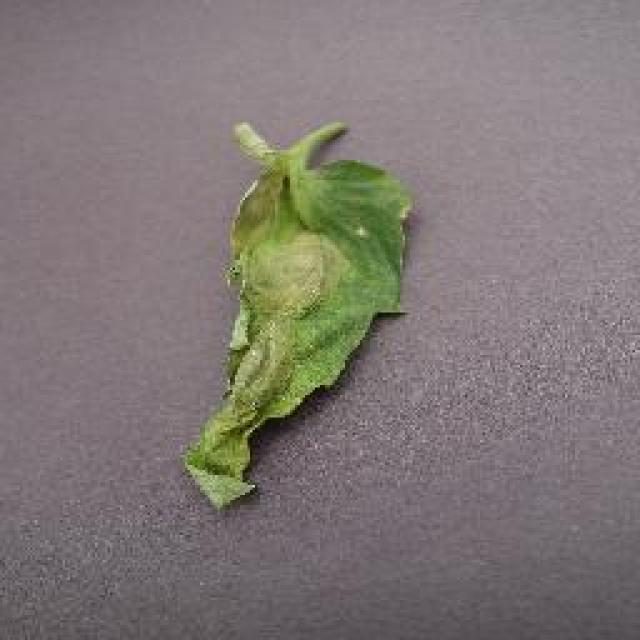Tomato___Late_blight: (180, 122, 415, 512)
